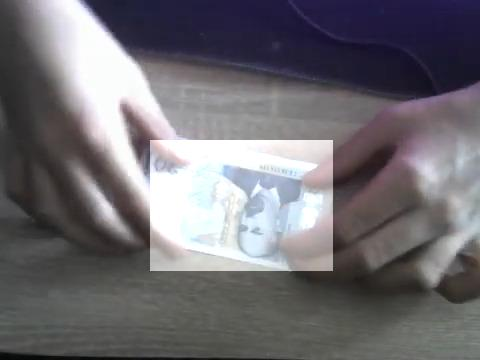20leva: (150, 140, 333, 271)
